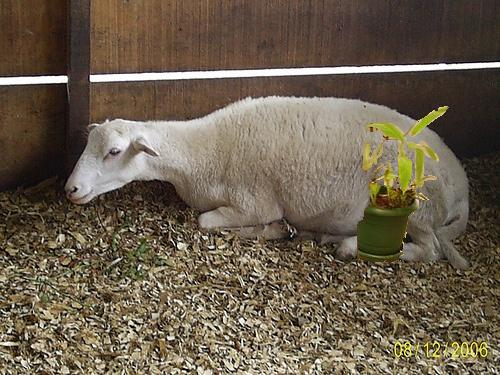tampered: (159, 107, 449, 262)
